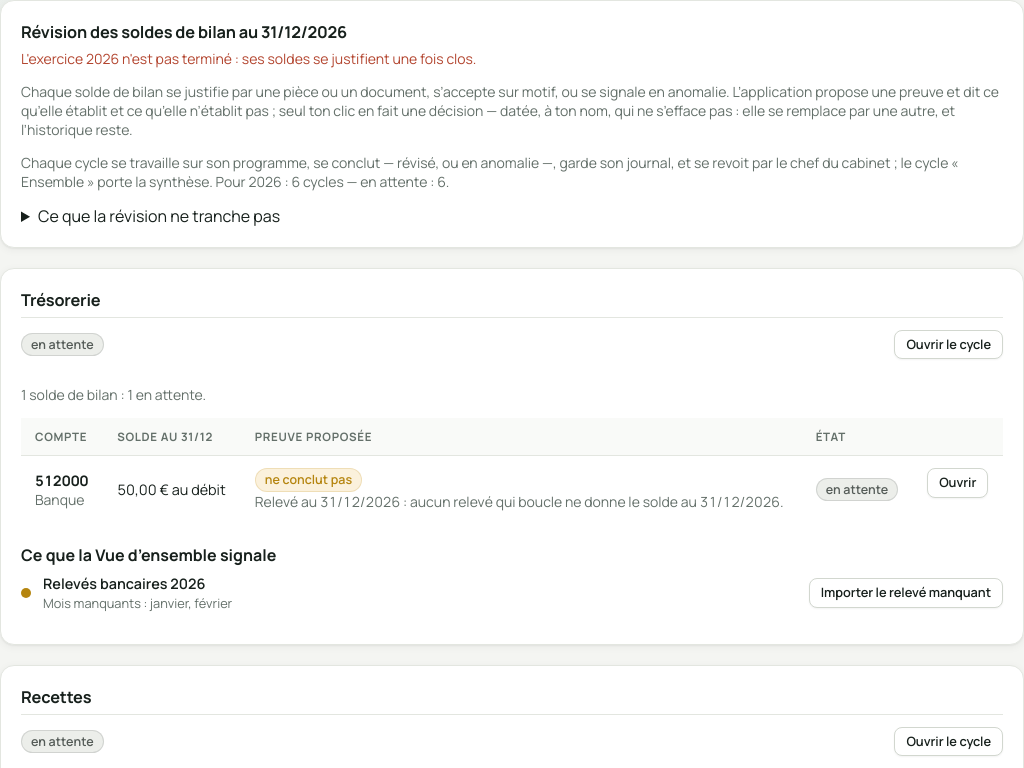
Test: RevisionTab — les soldes, par cycle › un exercice en cours le dit sous les mots de la base, et le panneau n’offre aucune décision
Expected: the text "L'exercice 2026 n'est pas terminé : ses soldes se justifient une fois clos." is shown, left=21, top=49, right=476, bottom=68
Click the button with aria-label "Ouvrir le compte 512000".
click(958, 483)  # box left=927, top=468, right=988, bottom=498
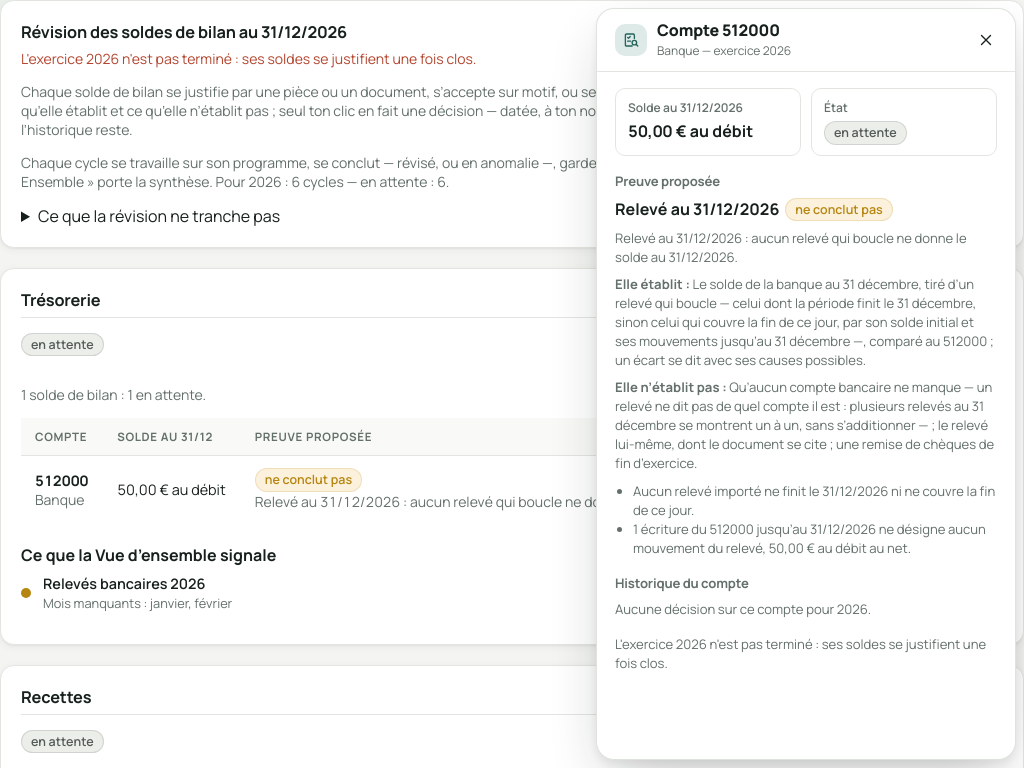
Expected: the text "L'exercice 2026 n'est pas terminé : ses soldes se justifient une fois clos." is shown once, left=615, top=635, right=997, bottom=673
